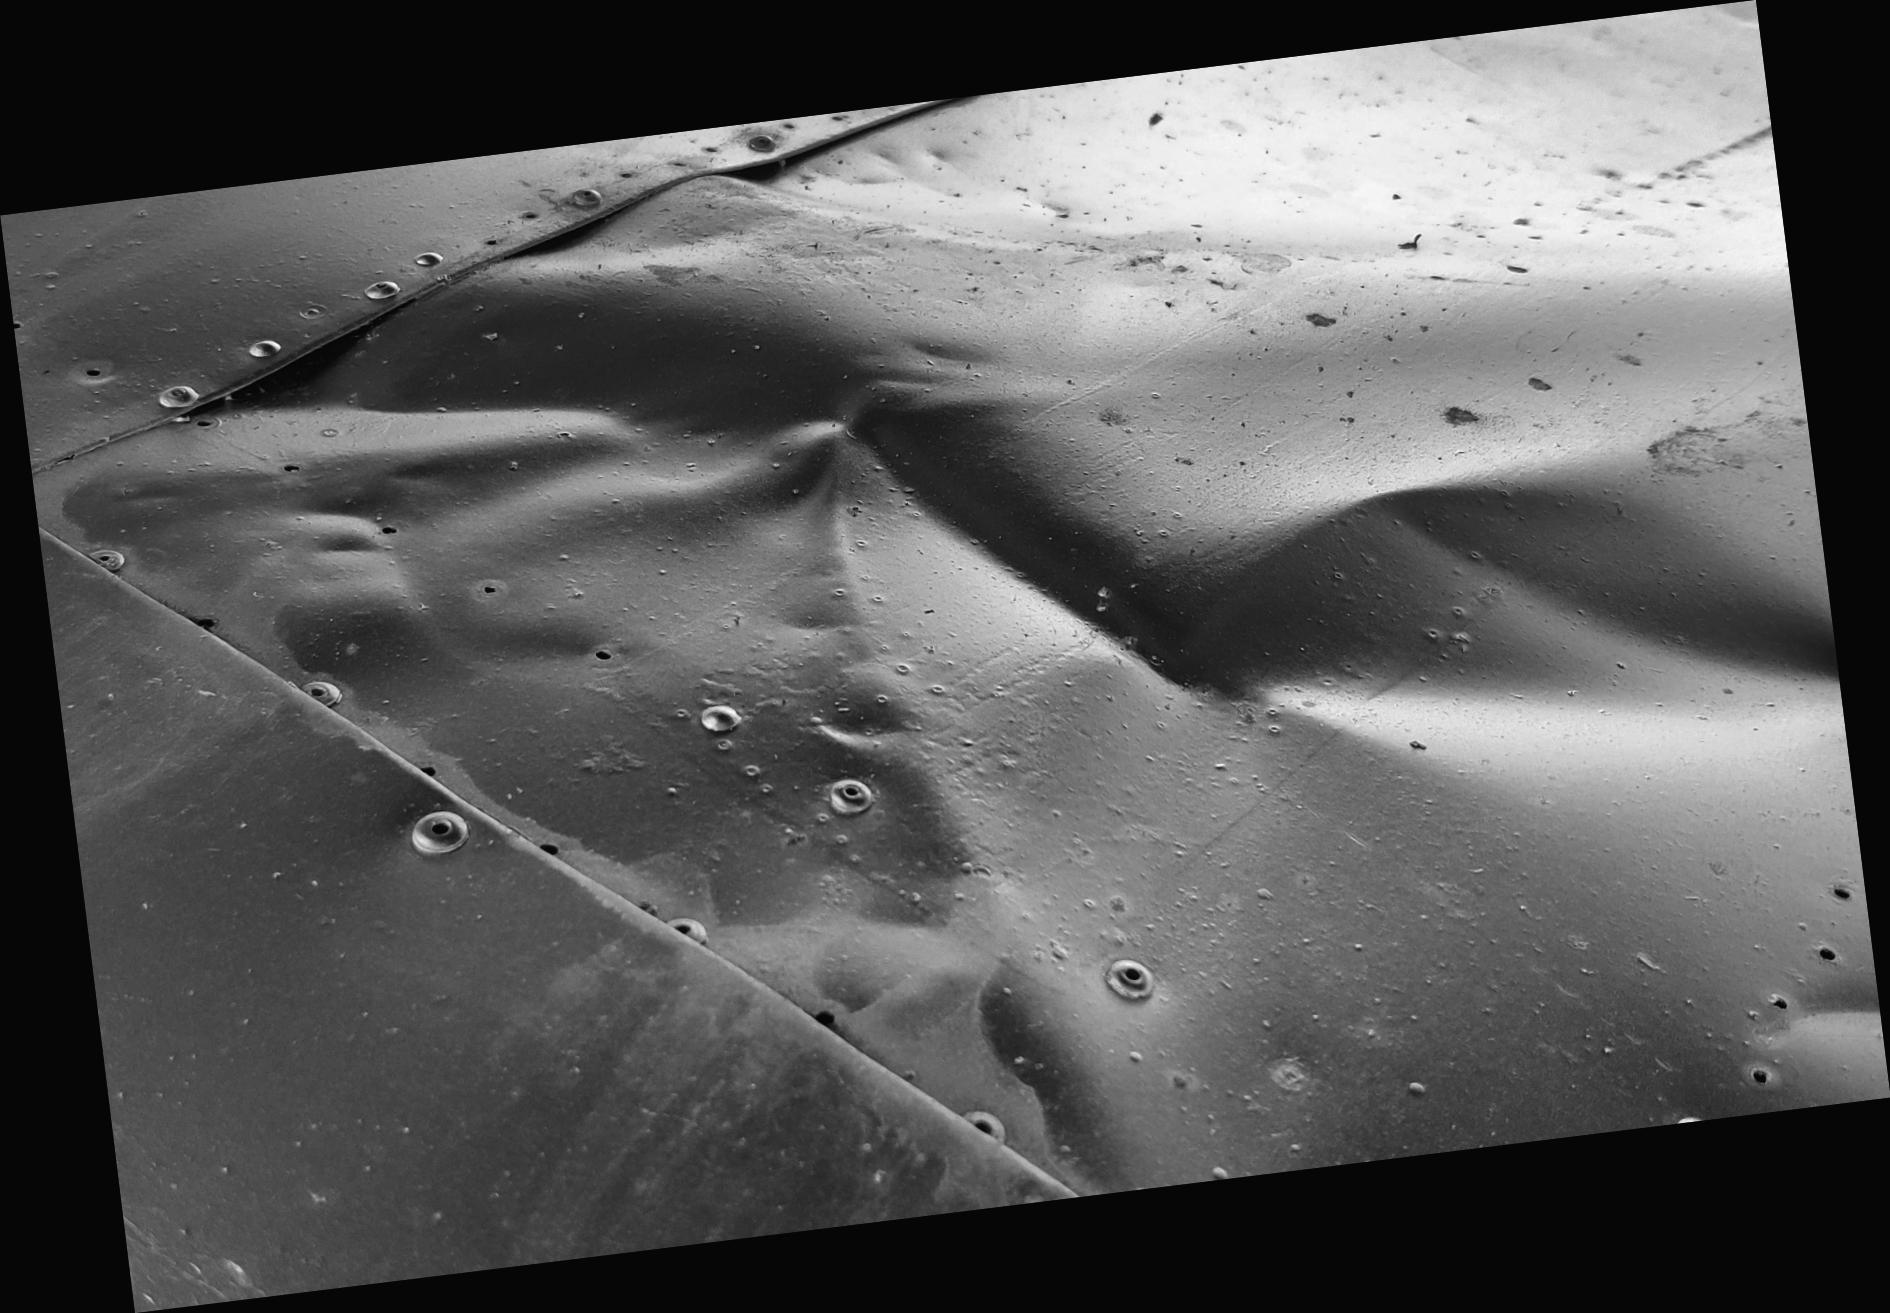dent: (1, 0, 1890, 1312)
